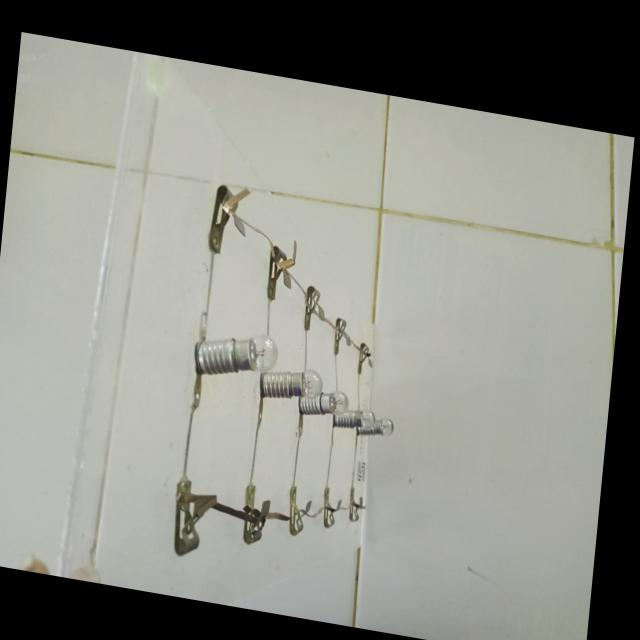Set of Resistors and Bulbs: (166, 168, 436, 583)
